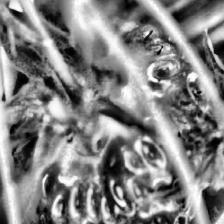Gray Mold: (192, 28, 224, 197)
